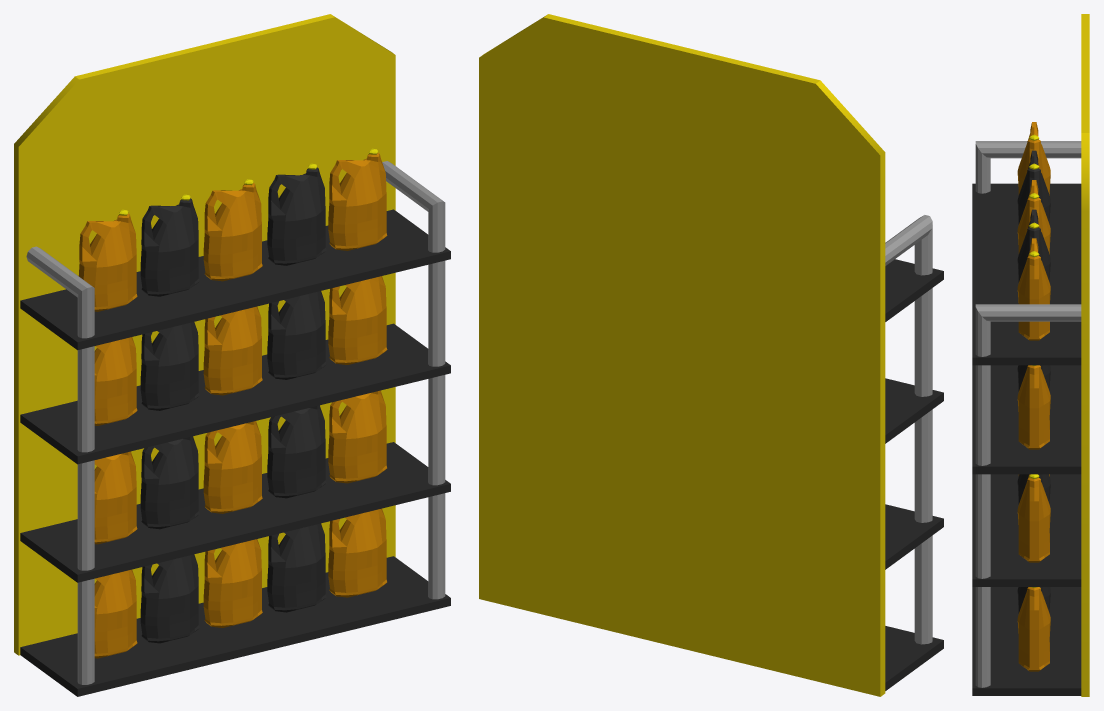
File: EngineOil_Shelves.fbx
The picture shows the model from 3 angles, left to right: view 1: azimuth 30°, elevation 25°; view 2: azimuth 150°, elevation 25°; view 3: azimuth 270°, elevation 25°; orthographic projection. The views are drawn at different scales.
Visible parts, largest first — view 1: pCylinder3; view 2: pCylinder3; view 3: pCylinder3.
Part boxes in pixels (left/top/right/bottom): pCylinder3: left=14, top=14, right=450, bottom=696; pCylinder3: left=479, top=14, right=943, bottom=696; pCylinder3: left=972, top=14, right=1089, bottom=696.
Size of the model in its own units: 84.22 by 120 by 23.78.
